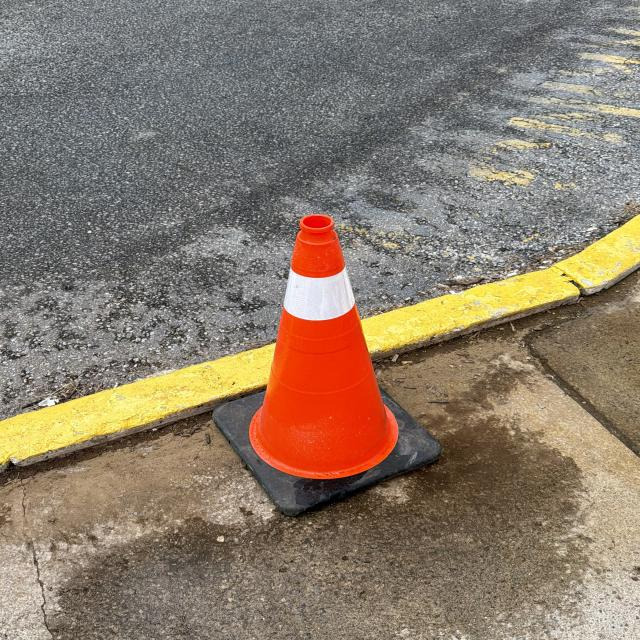Traffic Cone: (215, 213, 446, 516)
